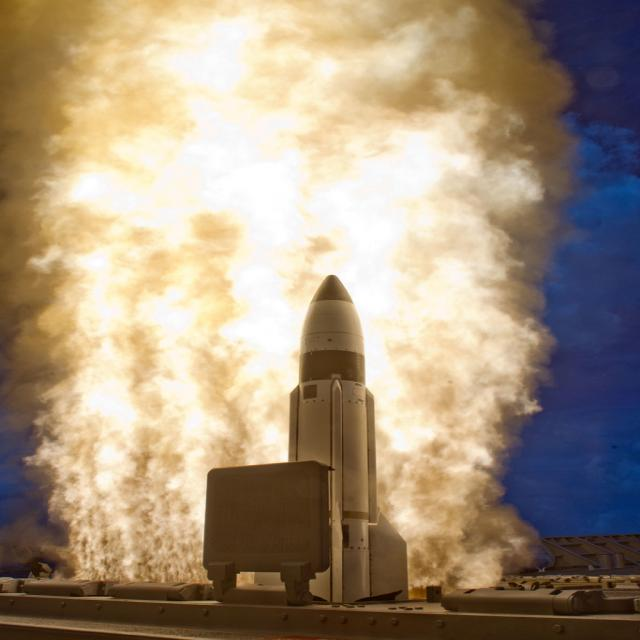rocket: (295, 273, 416, 609)
